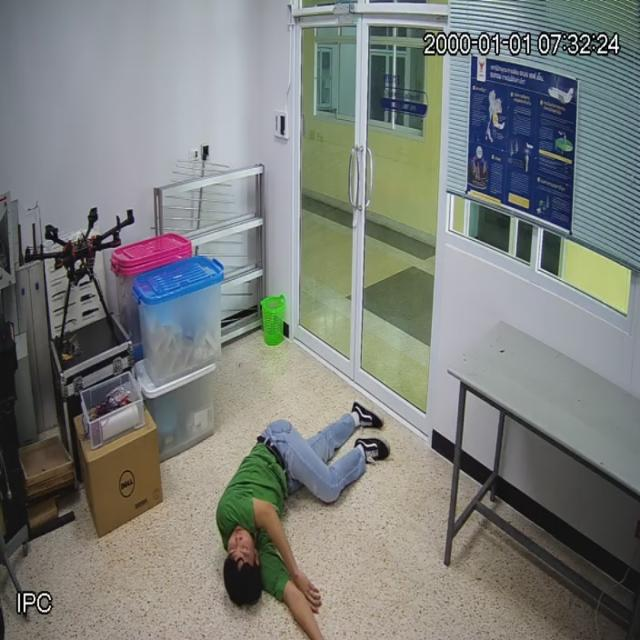fall: (216, 405, 371, 640)
